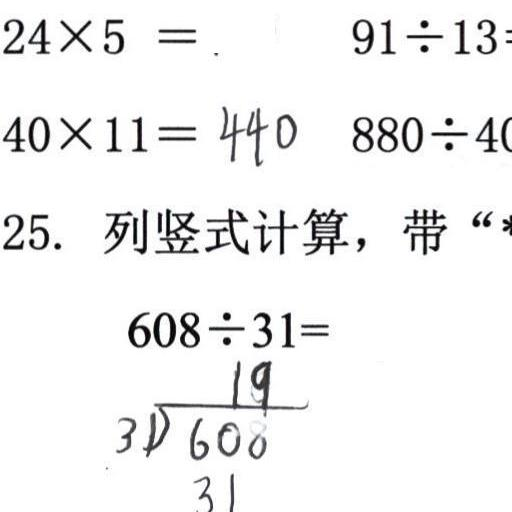ans: (215, 101, 298, 167)
